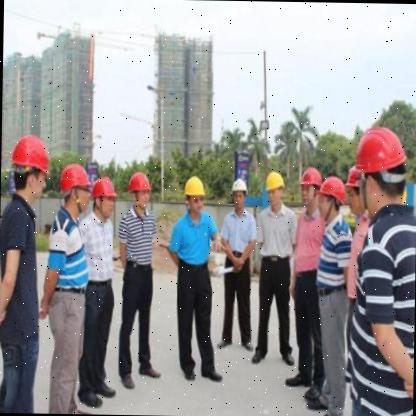bota: (303, 373, 325, 401), (92, 374, 116, 398), (76, 387, 104, 407), (137, 356, 161, 378), (177, 355, 196, 382), (250, 339, 268, 364), (278, 340, 295, 366), (200, 361, 222, 381), (286, 368, 310, 386), (117, 366, 135, 388), (305, 397, 328, 412), (216, 332, 232, 349), (240, 328, 252, 350)
capacete: (352, 125, 408, 203), (9, 133, 50, 201), (58, 161, 92, 214), (315, 174, 344, 222), (343, 164, 365, 216), (90, 176, 116, 216), (181, 176, 207, 214), (126, 172, 152, 208), (299, 167, 322, 206), (264, 170, 285, 204), (230, 178, 247, 210)
